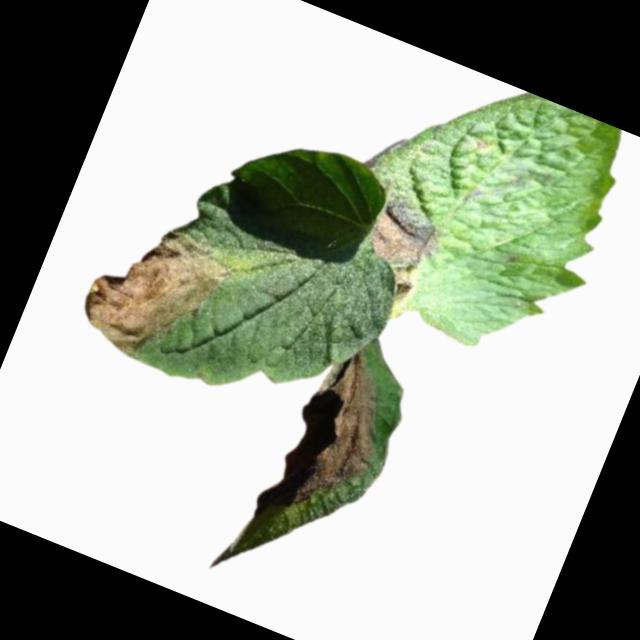Late_blight: (68, 207, 239, 383), (289, 347, 403, 523), (359, 194, 449, 280), (380, 268, 418, 308)
